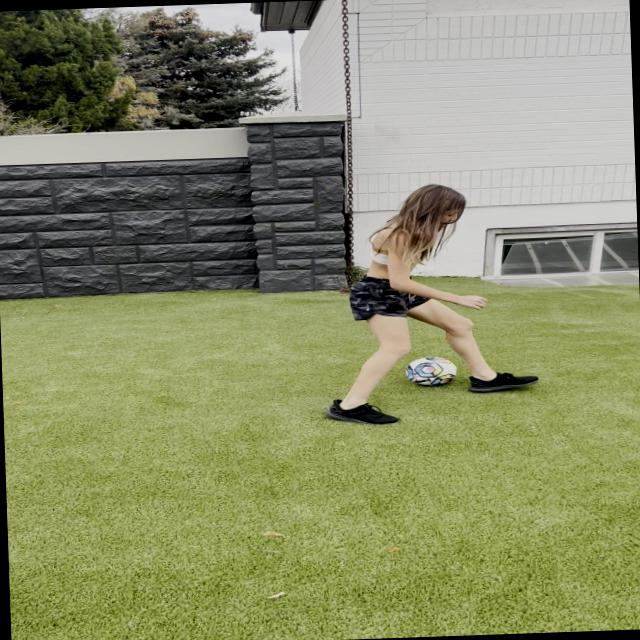Soccer Ball: (404, 355, 457, 385)
